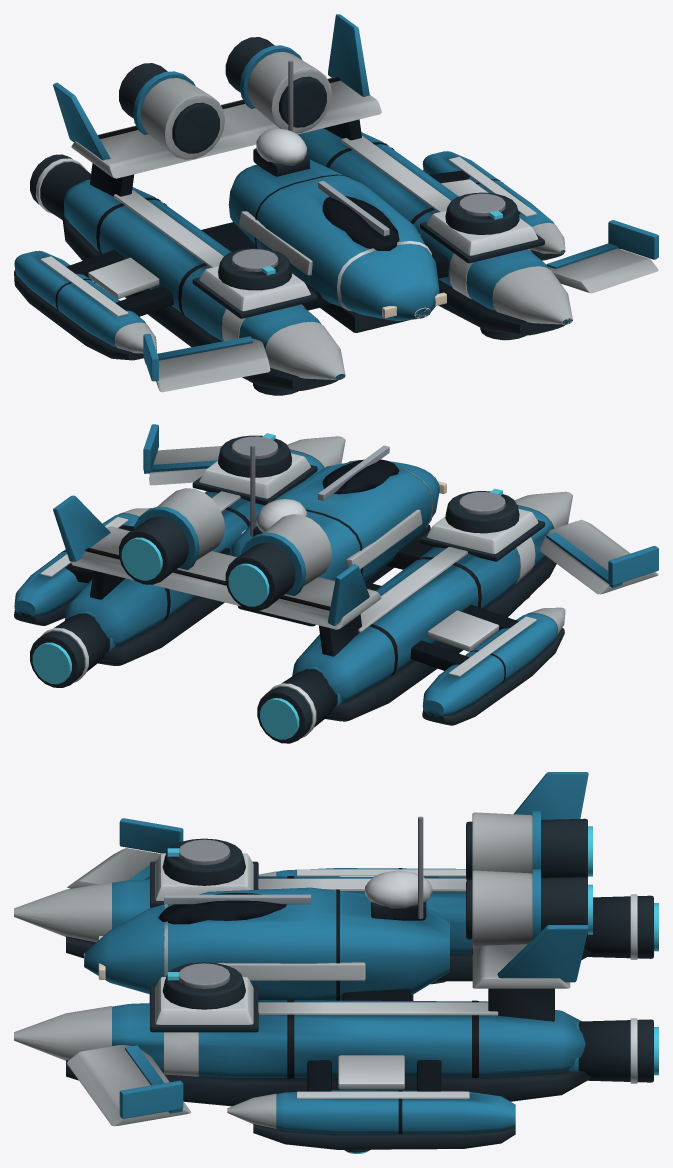
File: ex_skiff_4.glb
The picture shows the model from 3 angles, top to bottom: view 1: azimuth 30°, elevation 25°; view 2: azimuth 150°, elevation 25°; view 3: azimuth 270°, elevation 25°; orthographic projection. The views are drawn at different scales.
Visible parts, largest first — view 1: body; view 2: body; view 3: body.
Part boxes in pixels (<box>): body: <box>14,14,658,395</box>; body: <box>14,424,658,743</box>; body: <box>14,772,658,1153</box>.
Bounding box in the file's own units: 7.21 × 2.81 × 7.12.
